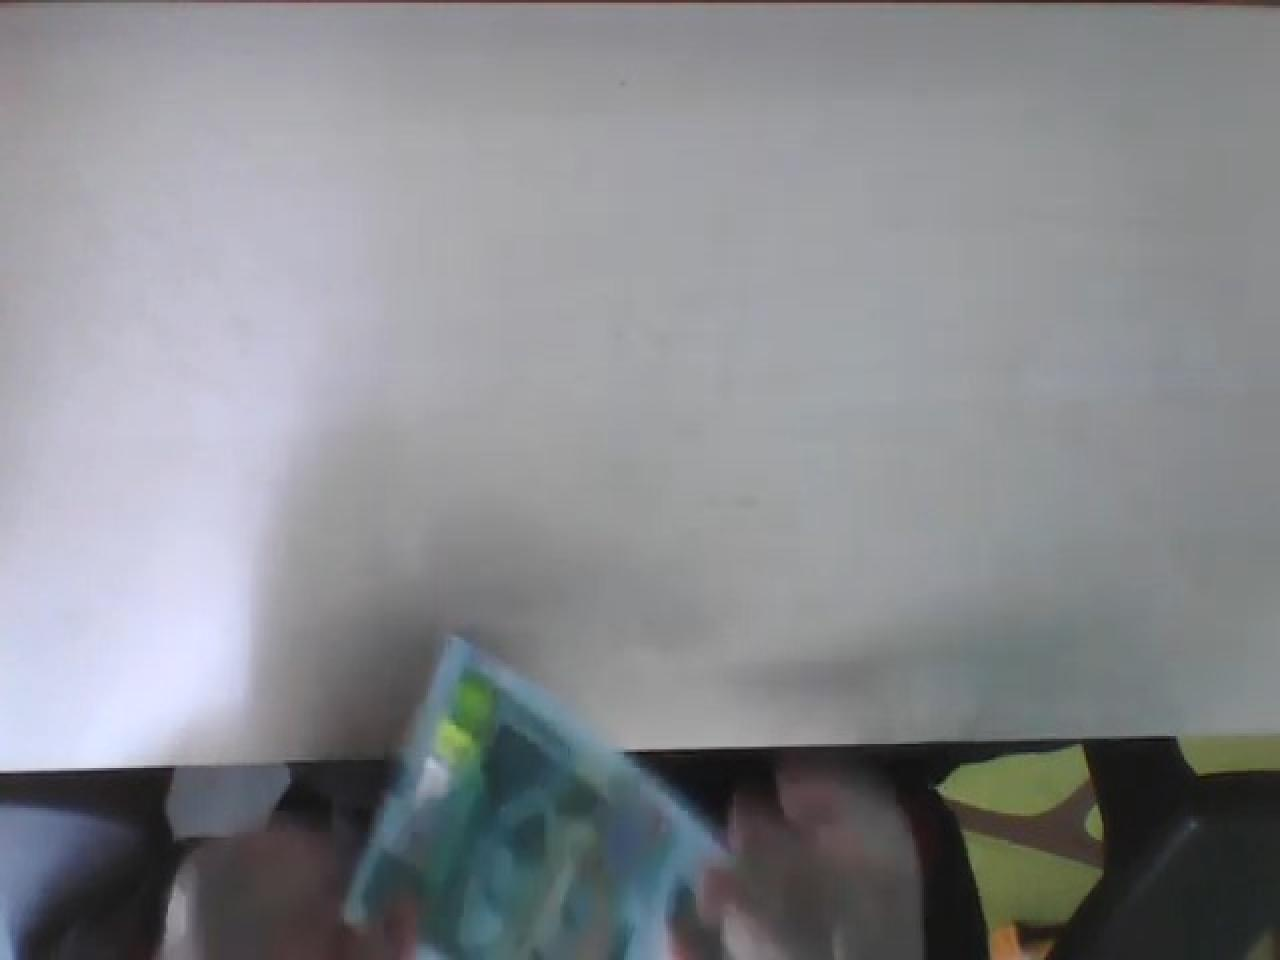100leva: (340, 635, 734, 960)
